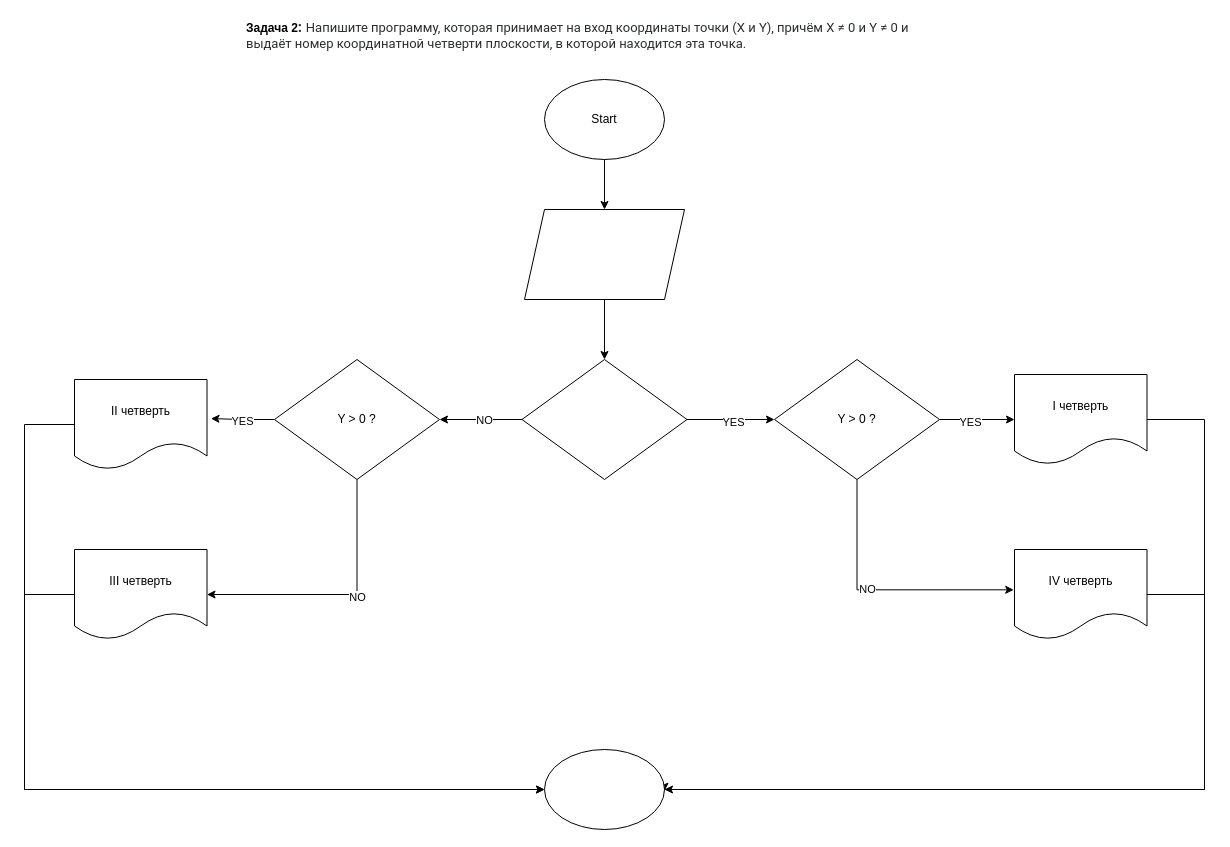
Some shapes in this 1230 by 847 pixel diagram are drawn without their labels. The shapes that lost their labels are listed below. From the top down, each one's box as (x1, y1, x2, y2) in pixels, then its label:
(524, 208, 684, 300): X , Y
(521, 358, 687, 480): X > 0 ?
(544, 748, 664, 830): End
